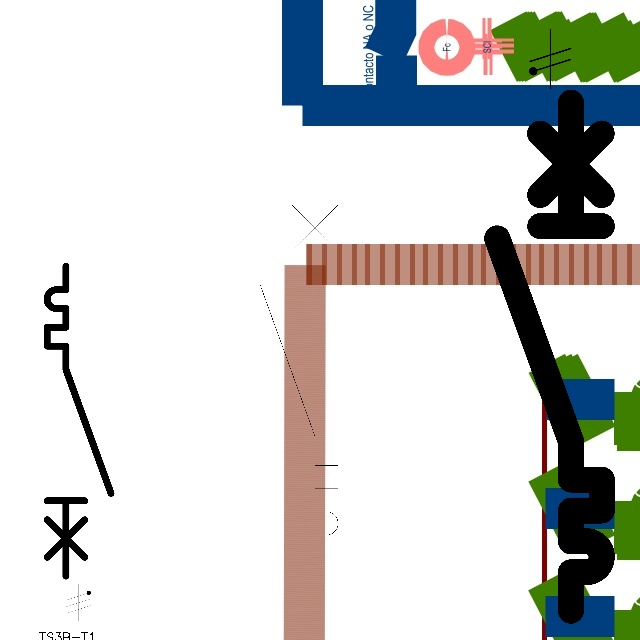interruptor_termomagnetico: (484, 89, 615, 623), (250, 172, 348, 574), (39, 258, 118, 584)
